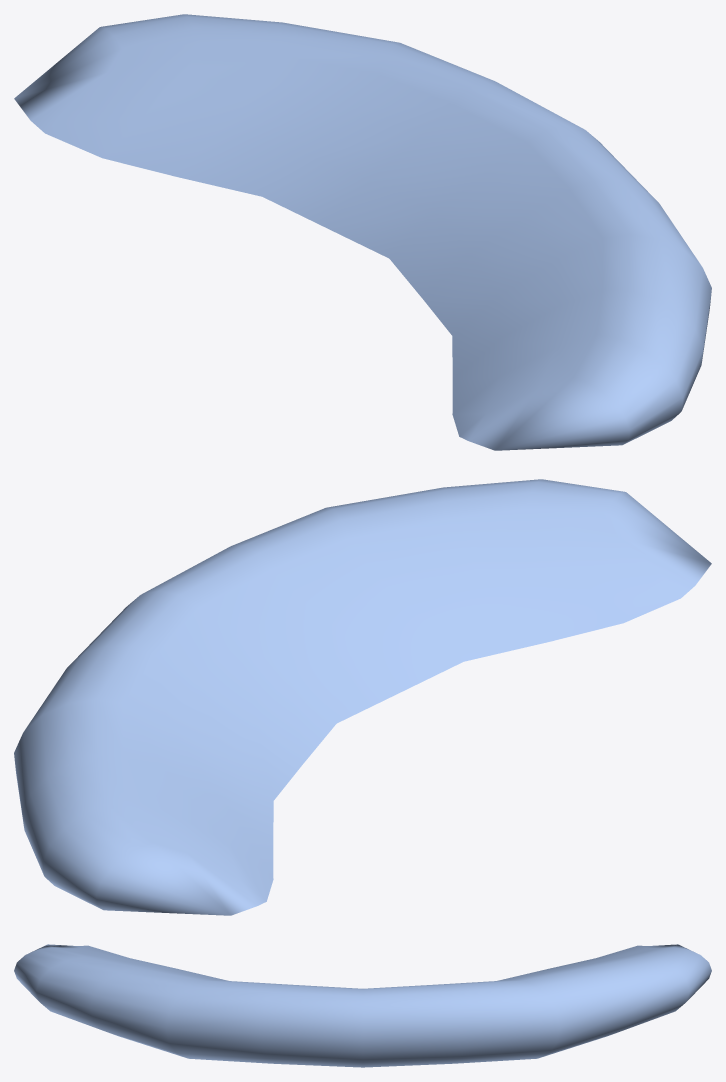
Rendered from Arc-v03.glb.
The picture shows the model from 3 angles, top to bottom: view 1: azimuth 30°, elevation 25°; view 2: azimuth 150°, elevation 25°; view 3: azimuth 270°, elevation 25°; orthographic projection. The views are drawn at different scales.
Parts seen in each view (by area): view 1: Arc; view 2: Arc; view 3: Arc.
Part boxes in pixels (bbox=[...]): Arc: bbox=[14, 14, 711, 450]; Arc: bbox=[14, 479, 711, 915]; Arc: bbox=[14, 944, 711, 1067].
Bounding box in the file's own units: 0.4551 × 0.1342 × 1.17.
